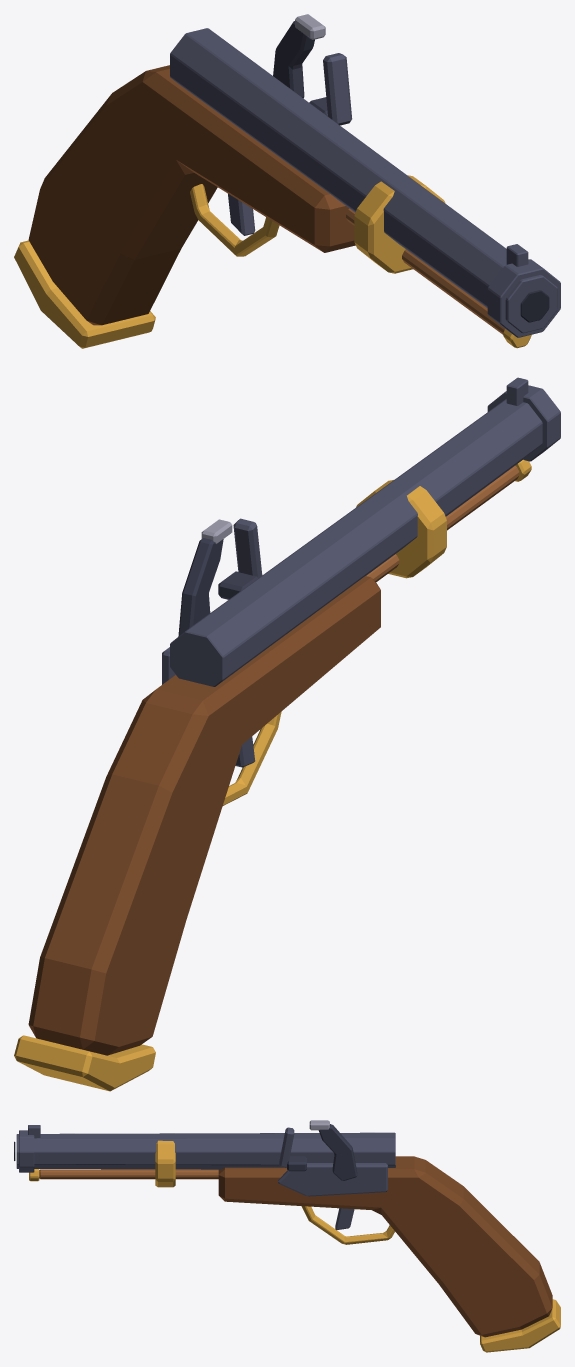
Rendered from myw_flintlock.glb.
3 views of the same model, one above another, from view 1: azimuth 30°, elevation 25°; view 2: azimuth 150°, elevation 25°; view 3: azimuth 270°, elevation 25° (orthographic). The views are drawn at different scales.
Visible parts, largest first — view 1: Stock, Barrel, Brass, Hammer, Ramrod, Lock, Trigger; view 2: Stock, Barrel, Brass, Hammer, Lock, Ramrod; view 3: Stock, Barrel, Brass, Lock, Ramrod, Hammer, Trigger.
Part boxes in pixels (box(x1,y1,x2,y2)): Stock: box(28, 65, 355, 325); Barrel: box(170, 28, 560, 337); Brass: box(14, 175, 445, 348); Hammer: box(273, 14, 325, 98); Ramrod: box(346, 208, 531, 348); Lock: box(309, 53, 352, 125); Trigger: box(228, 194, 255, 235); Stock: box(28, 576, 380, 1055); Barrel: box(170, 377, 560, 686); Brass: box(14, 480, 446, 1091); Hammer: box(178, 519, 232, 636); Lock: box(162, 518, 262, 684); Ramrod: box(366, 459, 531, 582); Stock: box(218, 1156, 552, 1337); Barrel: box(14, 1125, 395, 1172); Brass: box(155, 1140, 560, 1352); Lock: box(278, 1127, 387, 1196); Ramrod: box(29, 1169, 218, 1181); Hammer: box(309, 1120, 357, 1180); Trigger: box(335, 1208, 354, 1230).
Bounding box in the file's own units: 0.2516 × 1.02 × 2.16.
